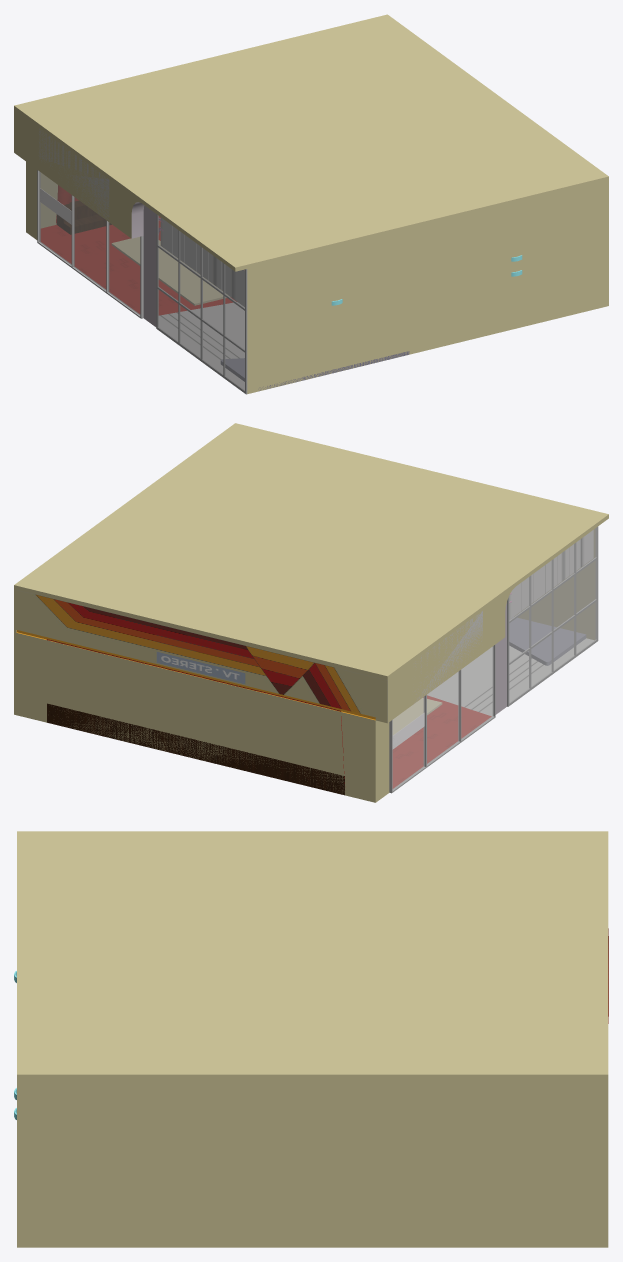
Rendered from Escenario_2.fbx.
3 renders of one model, top to bottom at view 1: azimuth 30°, elevation 25°; view 2: azimuth 150°, elevation 25°; view 3: azimuth 270°, elevation 25°, orthographic. The views are drawn at different scales.
Visible parts, largest first — view 1: Escenario_2; view 2: Escenario_2; view 3: Escenario_2.
Part boxes in pixels (x1=…): Escenario_2: x1=14, y1=14, x2=608, y2=394; Escenario_2: x1=14, y1=423, x2=608, y2=802; Escenario_2: x1=14, y1=831, x2=608, y2=1247.
Bounding box in the file's own units: 1559 × 517 × 1610.
